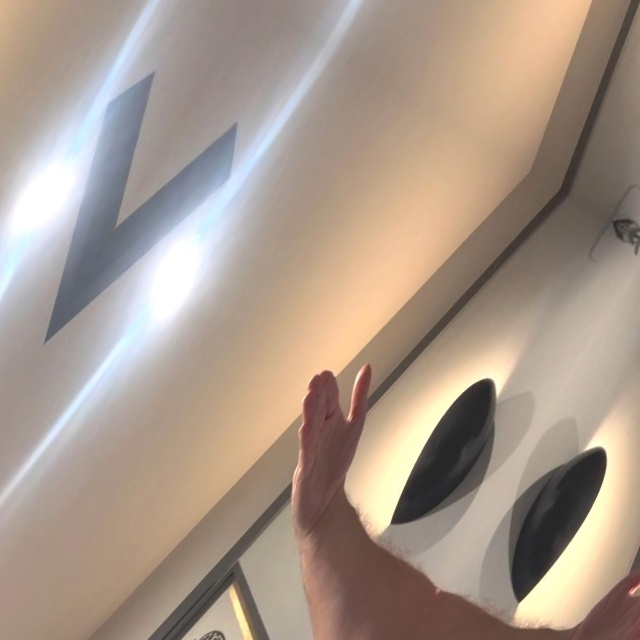Paper: (233, 336, 407, 547)
